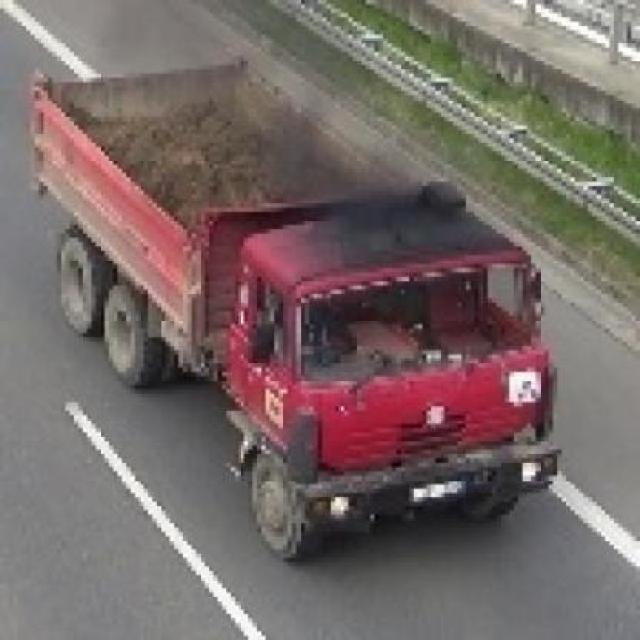truck: (23, 58, 566, 567)
